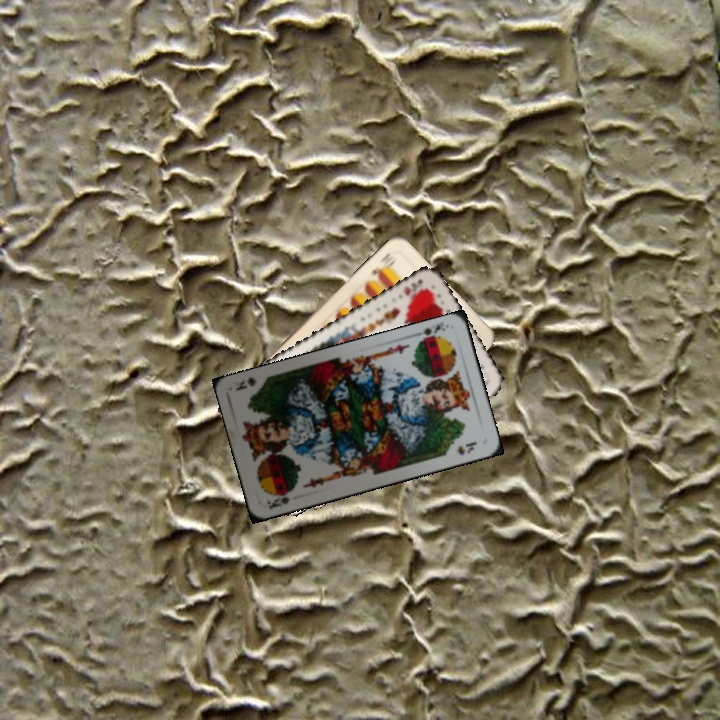E10: (367, 249, 398, 282)
HK: (400, 275, 429, 298)
SK: (411, 320, 451, 346), (263, 486, 296, 513)
